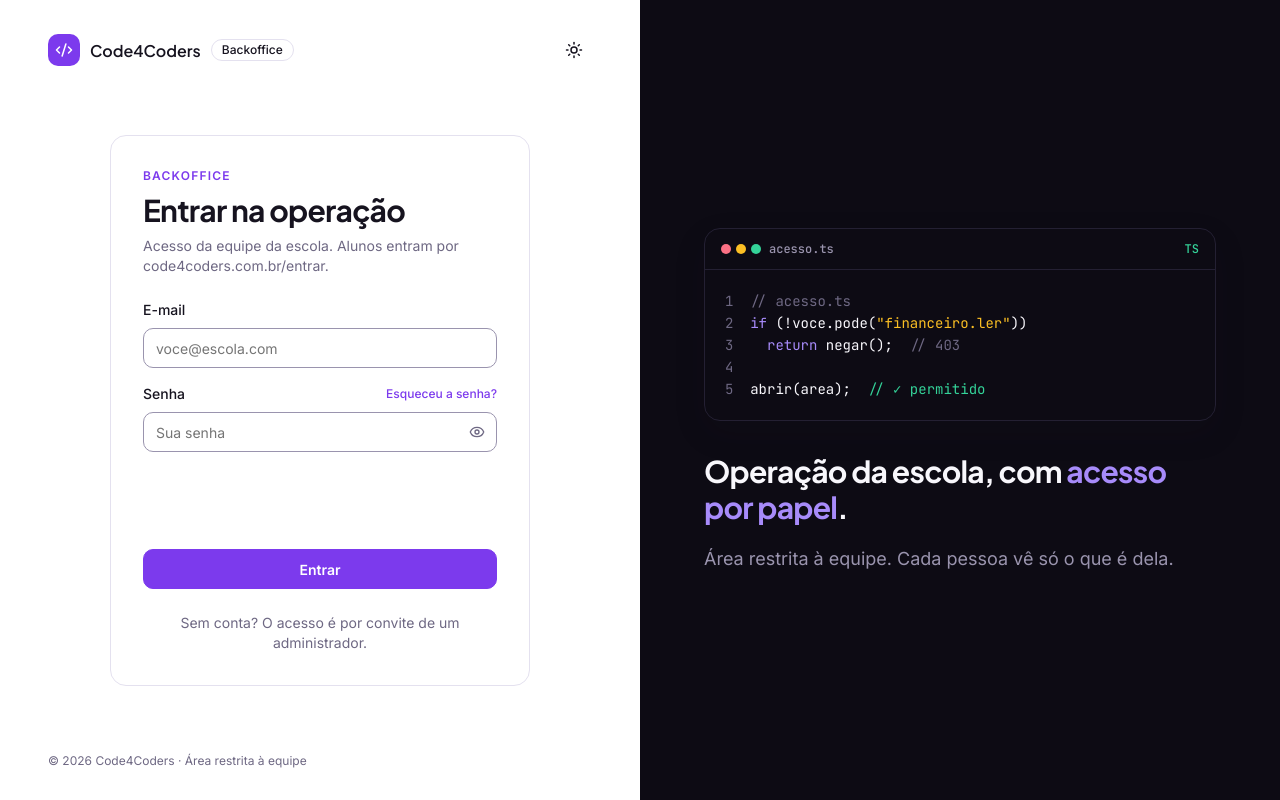
StaffSession login › shows a pt-BR message and restarts the widget on 400 CAPTCHA_REQUIRED
Step 1. Type "marina@example.com" into the field labelled "E-mail" → [320, 348], box [143,328,497,368]
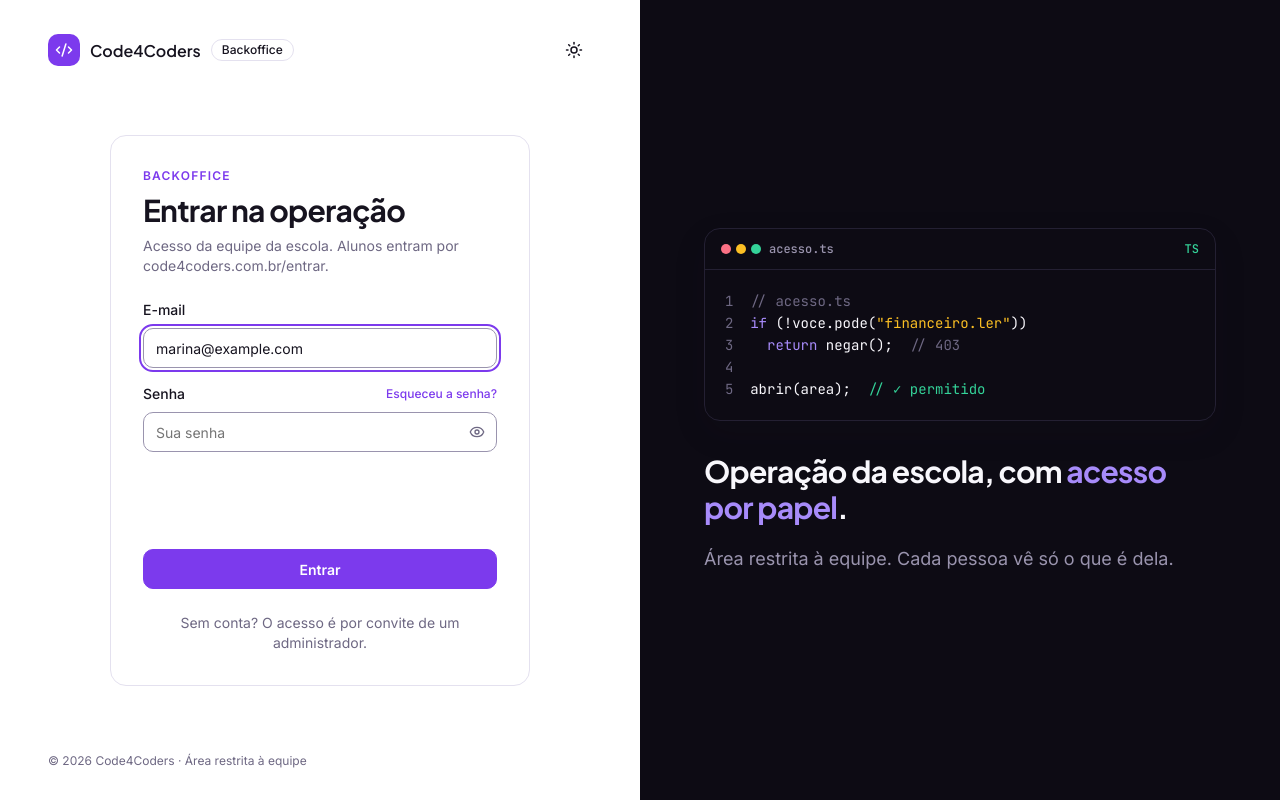
Step 2. Type "SenhaForte1!" into the password field labelled "Senha" → [320, 432], box [143,412,497,452]
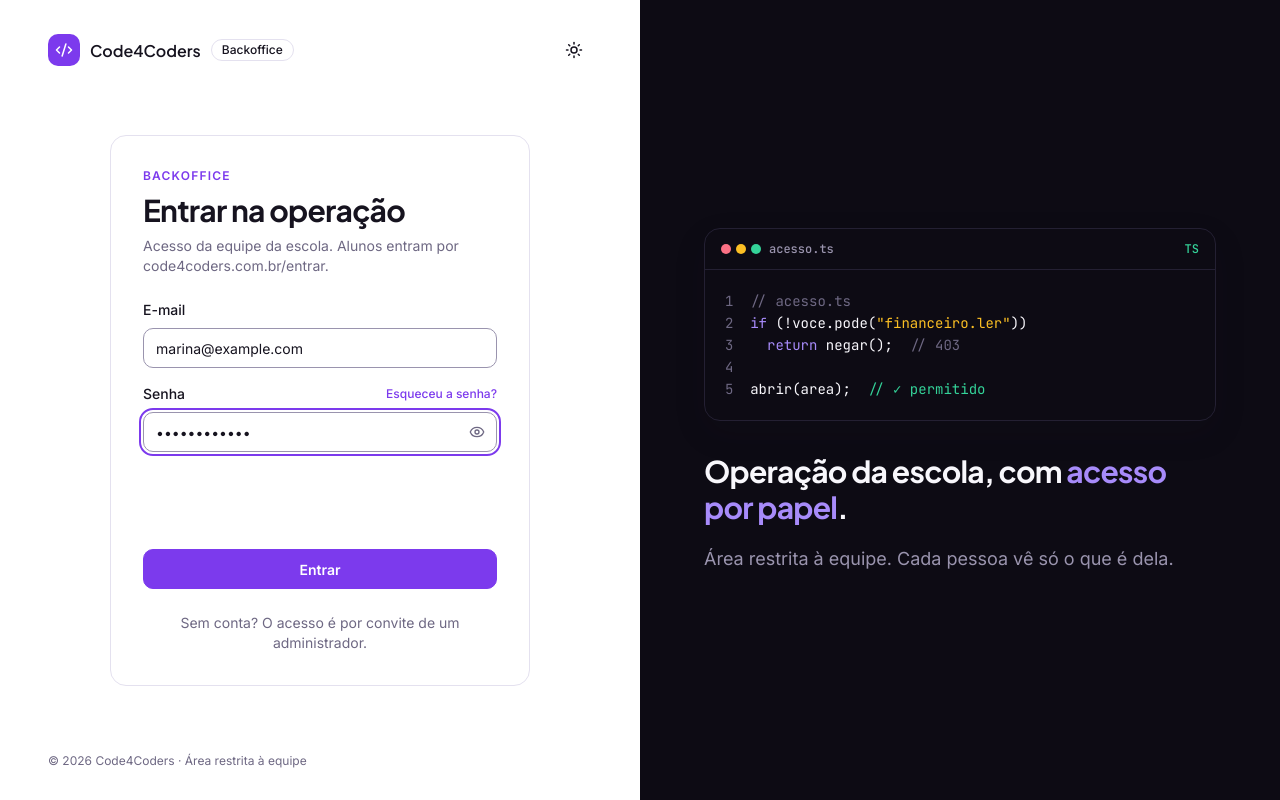
Step 3. Click the button "Entrar" → [320, 569], box [143,549,497,589]
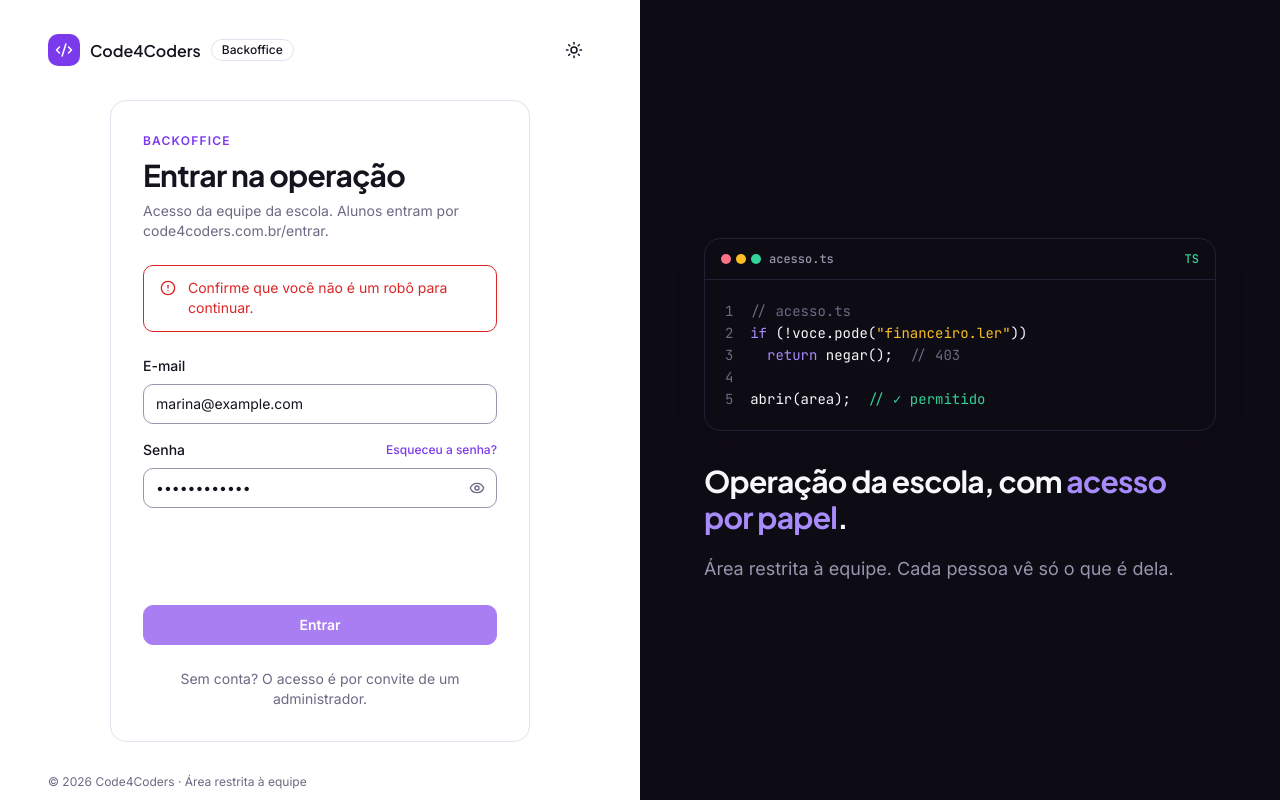
Expected: the message reads "Confirme que você não é um robô para continuar.", [188,279,447,316]
Expected: the button "Entrar" is disabled, [143,605,497,645]
